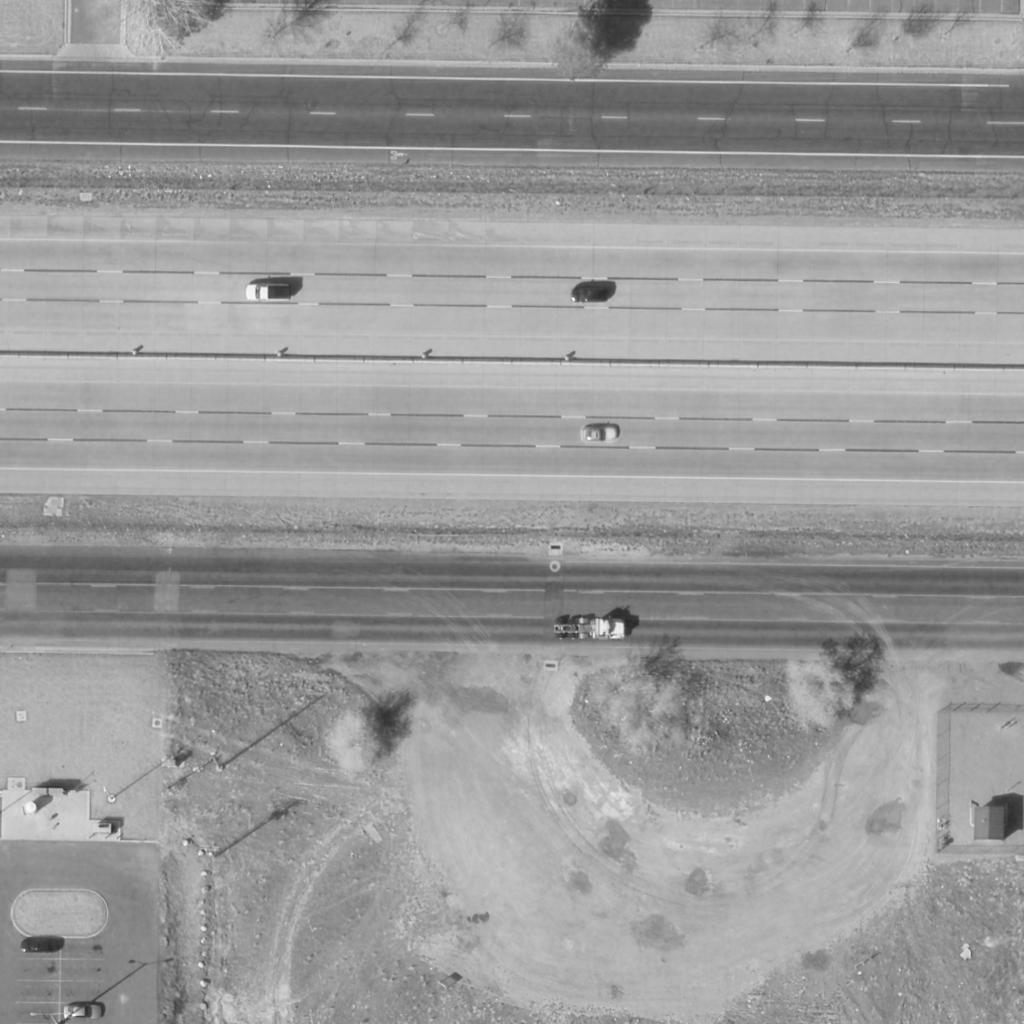vehicle: (553, 618, 629, 640), (244, 283, 296, 303), (569, 283, 611, 305), (581, 423, 621, 443), (20, 937, 60, 953), (63, 1004, 107, 1018)
